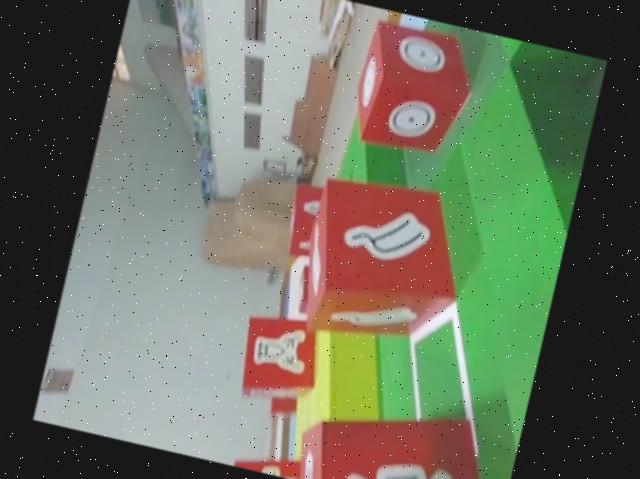R2 Real: (287, 164, 480, 363), (281, 384, 520, 479), (342, 9, 480, 160), (230, 303, 331, 413), (227, 437, 332, 479)
